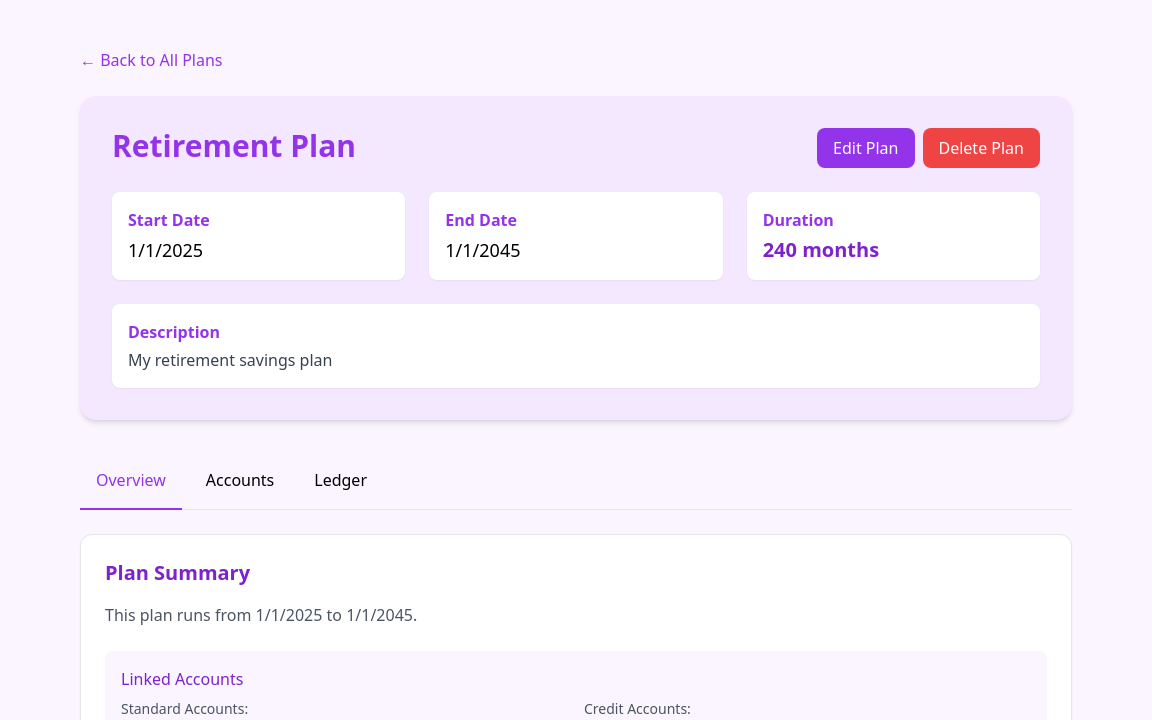
Test: PlanDetailPage Component › displays linked accounts when available
The image size is (1152, 720).
expect the heading "Retirement Plan" is shown: met, box [112,128,356,164]
What coordinates should you click on to do the following:
click the button "Accounts"
I would click on:
 (240, 481)
Its box is [190,452,290,510].
(page scrolled)
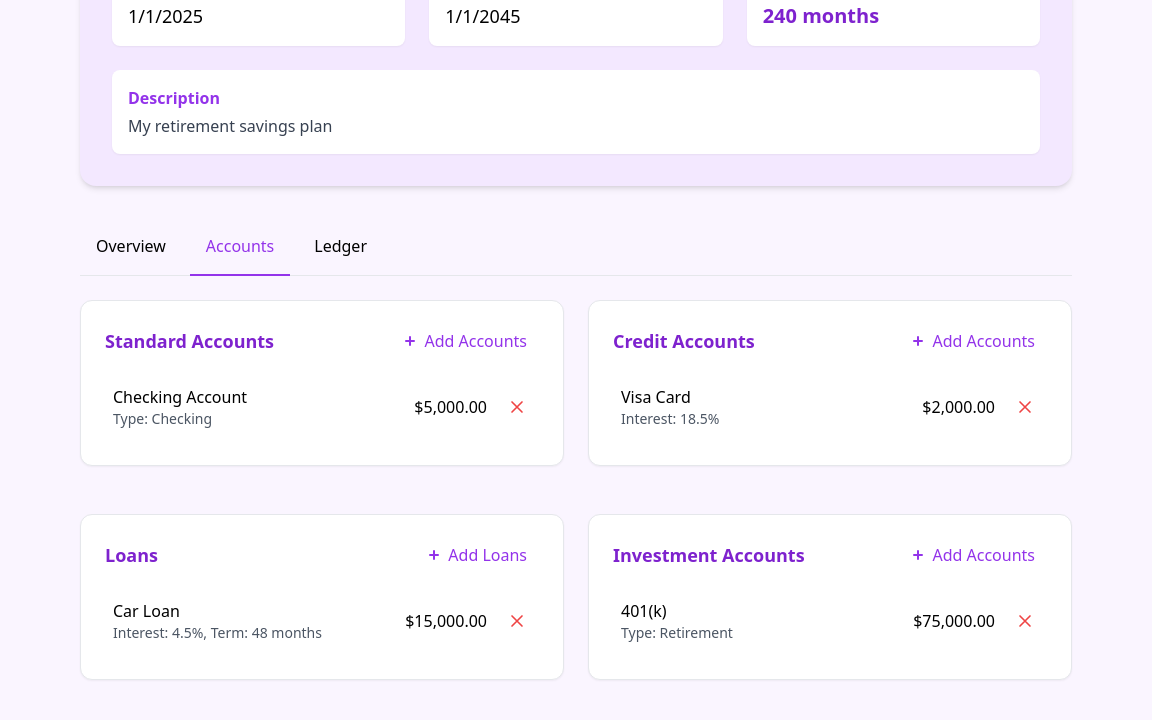
expect the text "Checking Account" is shown: met, box [113,385,247,409]
expect the text "Visa Card" is shown: met, box [621,386,691,408]
expect the text "Car Loan" is shown: met, box [113,600,180,622]
